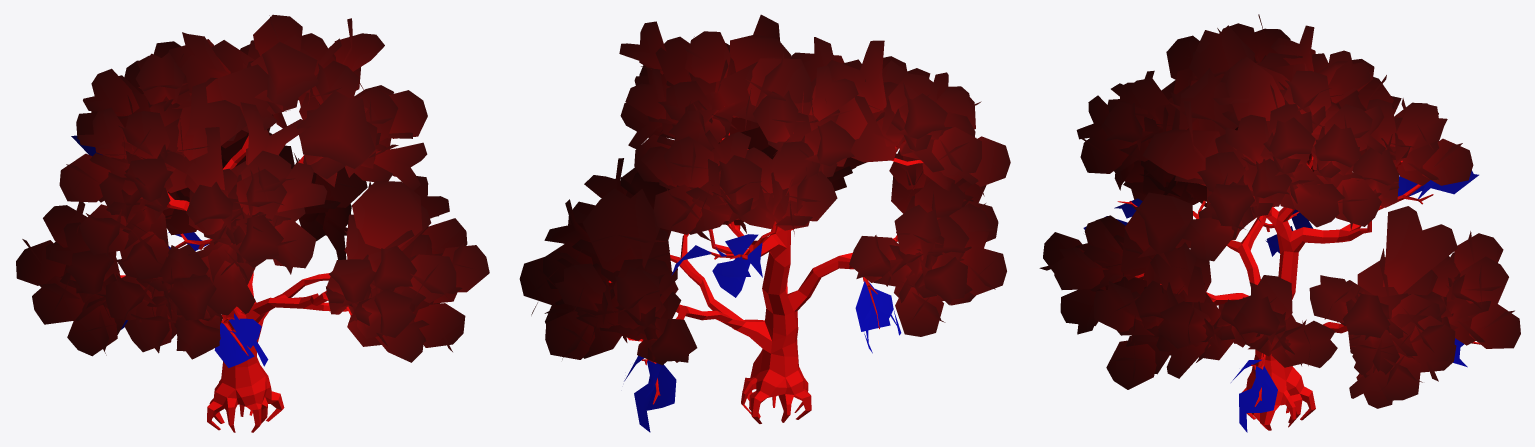
File: SM_Tree_Generic_Giant_01.gltf
The picture shows the model from 3 angles, left to right: view 1: azimuth 30°, elevation 25°; view 2: azimuth 150°, elevation 25°; view 3: azimuth 270°, elevation 25°; orthographic projection. The views are drawn at different scales.
Parts seen in each view (by area): view 1: SM_Tree_Generic_Giant_01; view 2: SM_Tree_Generic_Giant_01; view 3: SM_Tree_Generic_Giant_01.
Boxes of the visible parts, box(x1,y1,x2,y2) form: SM_Tree_Generic_Giant_01: box(16, 14, 489, 432); SM_Tree_Generic_Giant_01: box(519, 14, 1010, 432); SM_Tree_Generic_Giant_01: box(1039, 14, 1520, 432).
Size of the model in its own units: 12.6 by 11.19 by 13.12.
